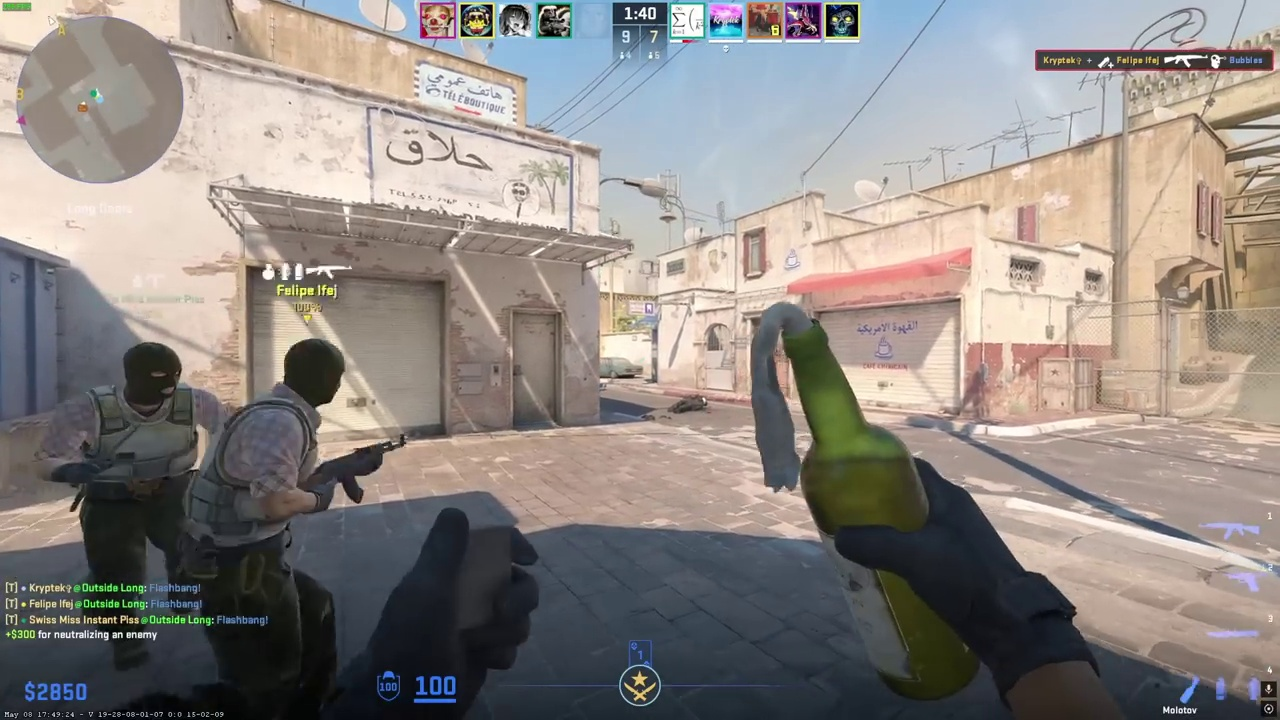Terrorist: (187, 338, 354, 720), (53, 340, 224, 674)
